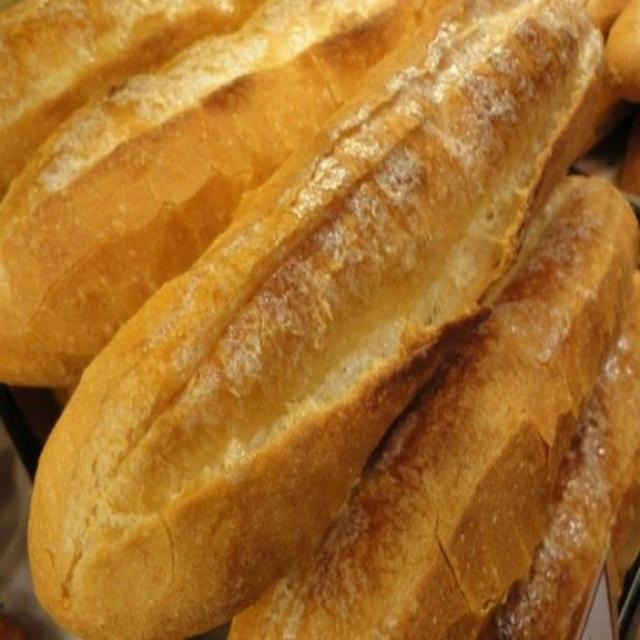Bread: (1, 3, 625, 630)
